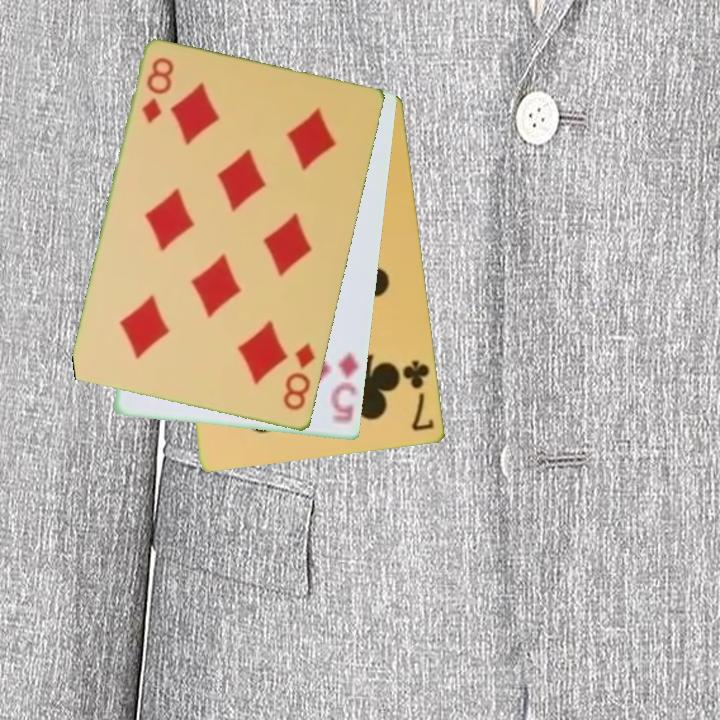5d: (327, 349, 362, 429)
7c: (399, 357, 437, 434)
8d: (280, 340, 318, 414), (138, 54, 177, 126)
